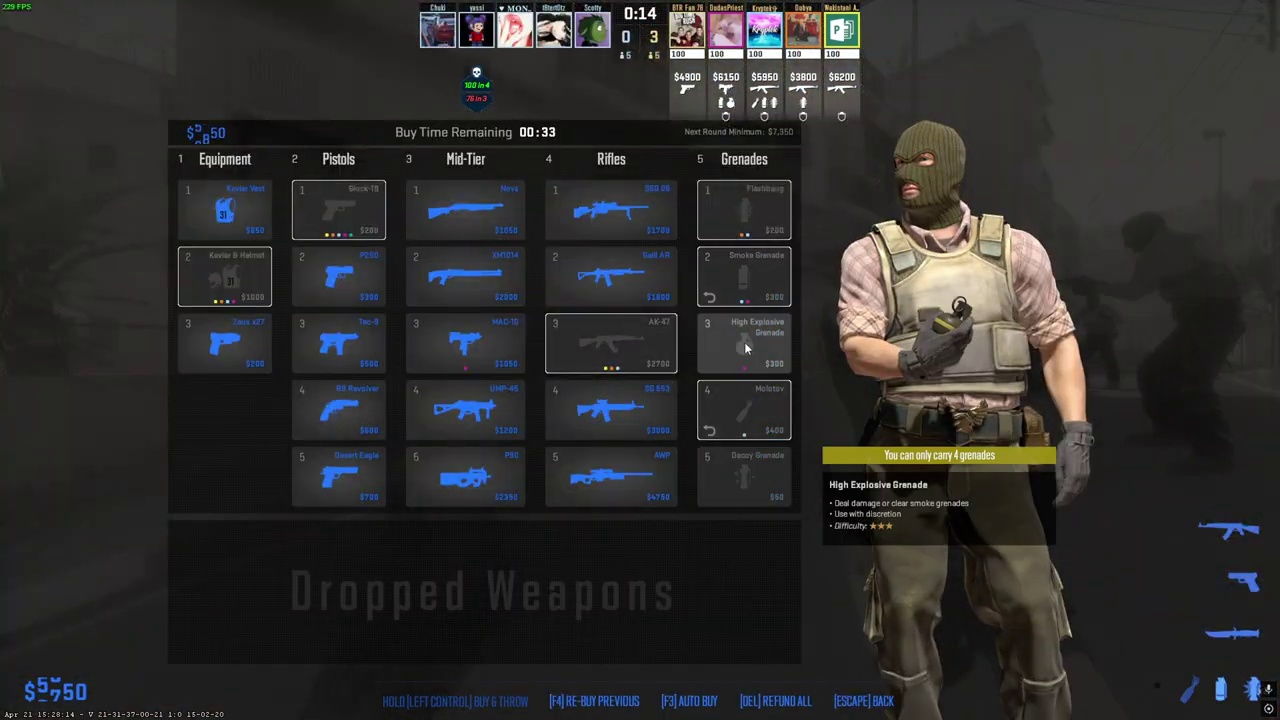Terrorist: (847, 121, 1078, 720)
